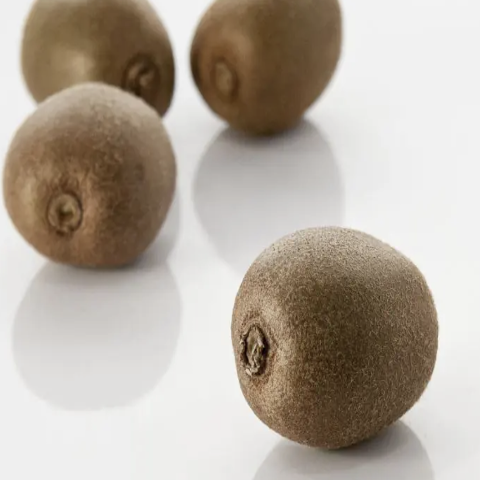kiwi: (212, 210, 457, 462), (0, 81, 201, 286)
